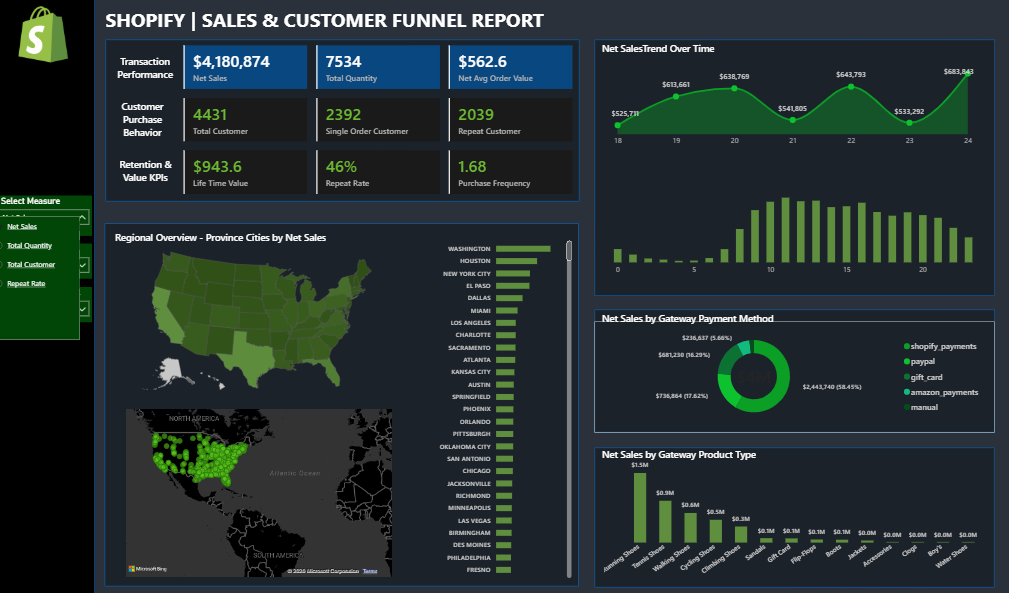

This screenshot's page, from the dashboard's own definition file:
{"tool":"powerbi","page":{"name":"Shopify Analysis","canvas":[1700,1000],"ordinal":0},"visuals":[{"type":"shape","box":[0,0,170,1000.8],"z":0},{"type":"textbox","box":[187.5,17.5,754.4,54.4],"z":1000},{"type":"shape","box":[187.1,72.9,790,270],"z":2000},{"type":"cardVisual","fields":{"Data":["shopify_sales.Net Sales","shopify_sales.Total Quantity","shopify_sales.Net Avg Order Value"]},"box":[317.1,82.9,650,72.9],"z":3000},{"type":"cardVisual","fields":{"Data":["shopify_sales.Transaction Perf"]},"box":[187.3,72.7,132.7,93.6],"z":4000},{"type":"cardVisual","fields":{"Data":["shopify_sales.Total Customer","shopify_sales.Single Order Customer","shopify_sales.Repeeat Customer"]},"box":[317.5,170,650,72.9],"z":5000},{"type":"cardVisual","fields":{"Data":["shopify_sales.Customer Purchase Behavior"]},"box":[183.3,140,133.3,131.7],"z":6000},{"type":"cardVisual","fields":{"Data":["shopify_sales.Life Time Value","shopify_sales.Repeat Rate","shopify_sales.Purchase Frequency"]},"box":[316.7,258.3,650,72.9],"z":7000},{"type":"cardVisual","fields":{"Data":["shopify_sales.Retention & Value KPIs"]},"box":[186.7,240,133.3,103.3],"z":8000},{"type":"shape","box":[170,365,822.5,635],"z":9000},{"type":"shapeMap","fields":{"Category":["shopify_sales.Billing Address Province"],"Value":["shopify_sales.Net Sales"]},"box":[183.8,400,510,285],"z":10000},{"type":"slicer","fields":{"Values":["Select Measure.Select Measure"]},"box":[4.3,331.4,160,67.1],"z":11000},{"type":"map","fields":{"Category":["shopify_sales.Location"]},"box":[204,676,476,310],"z":12000},{"type":"clusteredBarChart","fields":{"Category":["shopify_sales.CITY"],"Y":["shopify_sales.Net Sales"]},"box":[693.3,400,288,570],"z":13000},{"type":"cardVisual","fields":{"Data":["shopify_sales.Map Title"]},"box":[187.1,387.1,420,26.2],"z":14000},{"type":"shape","box":[1002.5,72.5,667.5,427.5],"z":15000},{"type":"areaChart","fields":{"Category":["shopify_sales.Invoice Date.Variation.Date Hierarchy.Day"],"Y":["shopify_sales.Net Sales"]},"box":[1014.3,97.1,635.7,172.9],"z":16000},{"type":"columnChart","fields":{"Category":["shopify_sales.Hour"],"Y":["shopify_sales.Net Sales"]},"box":[1014.3,285.7,637.1,200],"z":17000},{"type":"cardVisual","fields":{"Data":["shopify_sales.Trend Title"]},"box":[1013.8,71.2,420,26.2],"z":18000},{"type":"shape","box":[1002,522,667.5,205],"z":19000},{"type":"donutChart","fields":{"Category":["shopify_sales.Gateway"],"Y":["shopify_sales.Net Sales"]},"box":[1003.3,543.3,666.7,185],"z":20000},{"type":"cardVisual","fields":{"Data":["shopify_sales.Gateway Title"]},"box":[1013.8,522.5,420,26.2],"z":21000},{"type":"shape","box":[1003.3,751.7,666.7,233.3],"z":22000},{"type":"columnChart","fields":{"Category":["shopify_sales.Product Type"],"Y":["shopify_sales.Net Sales"]},"box":[1003.3,750,666.7,235],"z":23000},{"type":"cardVisual","fields":{"Data":["shopify_sales.Product Title"]},"box":[1014,750,420,26.2],"z":24000},{"type":"image","box":[42.5,7.5,82.5,112.5],"z":25000},{"type":"slicer","fields":{"Values":["shopify_sales.Gateway"]},"box":[4.3,412.9,160,58.6],"z":26000},{"type":"slicer","fields":{"Values":["shopify_sales.Billing Address Province"]},"box":[5,485,160,58.6],"z":27000}]}

Visuals, with their boxes on the page's 1700x1000 design canvas (x1, y1, x2, y2). These are canvas units, not pixel positions in the 1009x593 screenshot, which may show the page scaled, cropped or inside an application window:
shape: pyautogui.locateOnScreen(0, 0, 170, 1001)
textbox: pyautogui.locateOnScreen(188, 18, 942, 72)
shape: pyautogui.locateOnScreen(187, 73, 977, 343)
cardVisual - shopify_sales.Net Sales x shopify_sales.Total Quantity: pyautogui.locateOnScreen(317, 83, 967, 156)
cardVisual - shopify_sales.Transaction Perf: pyautogui.locateOnScreen(187, 73, 320, 166)
cardVisual - shopify_sales.Total Customer x shopify_sales.Single Order Customer: pyautogui.locateOnScreen(318, 170, 968, 243)
cardVisual - shopify_sales.Customer Purchase Behavior: pyautogui.locateOnScreen(183, 140, 317, 272)
cardVisual - shopify_sales.Life Time Value x shopify_sales.Repeat Rate: pyautogui.locateOnScreen(317, 258, 967, 331)
cardVisual - shopify_sales.Retention & Value KPIs: pyautogui.locateOnScreen(187, 240, 320, 343)
shape: pyautogui.locateOnScreen(170, 365, 992, 1000)
shapeMap - shopify_sales.Billing Address Province x shopify_sales.Net Sales: pyautogui.locateOnScreen(184, 400, 694, 685)
slicer - Select Measure.Select Measure: pyautogui.locateOnScreen(4, 331, 164, 398)
map - shopify_sales.Location: pyautogui.locateOnScreen(204, 676, 680, 986)
clusteredBarChart - shopify_sales.CITY x shopify_sales.Net Sales: pyautogui.locateOnScreen(693, 400, 981, 970)
cardVisual - shopify_sales.Map Title: pyautogui.locateOnScreen(187, 387, 607, 413)
shape: pyautogui.locateOnScreen(1002, 72, 1670, 500)
areaChart - shopify_sales.Invoice Date.Variation.Date Hierarchy.Day x shopify_sales.Net Sales: pyautogui.locateOnScreen(1014, 97, 1650, 270)
columnChart - shopify_sales.Hour x shopify_sales.Net Sales: pyautogui.locateOnScreen(1014, 286, 1651, 486)
cardVisual - shopify_sales.Trend Title: pyautogui.locateOnScreen(1014, 71, 1434, 97)
shape: pyautogui.locateOnScreen(1002, 522, 1670, 727)
donutChart - shopify_sales.Gateway x shopify_sales.Net Sales: pyautogui.locateOnScreen(1003, 543, 1670, 728)
cardVisual - shopify_sales.Gateway Title: pyautogui.locateOnScreen(1014, 522, 1434, 549)
shape: pyautogui.locateOnScreen(1003, 752, 1670, 985)
columnChart - shopify_sales.Product Type x shopify_sales.Net Sales: pyautogui.locateOnScreen(1003, 750, 1670, 985)
cardVisual - shopify_sales.Product Title: pyautogui.locateOnScreen(1014, 750, 1434, 776)
image: pyautogui.locateOnScreen(42, 8, 125, 120)
slicer - shopify_sales.Gateway: pyautogui.locateOnScreen(4, 413, 164, 472)
slicer - shopify_sales.Billing Address Province: pyautogui.locateOnScreen(5, 485, 165, 544)
